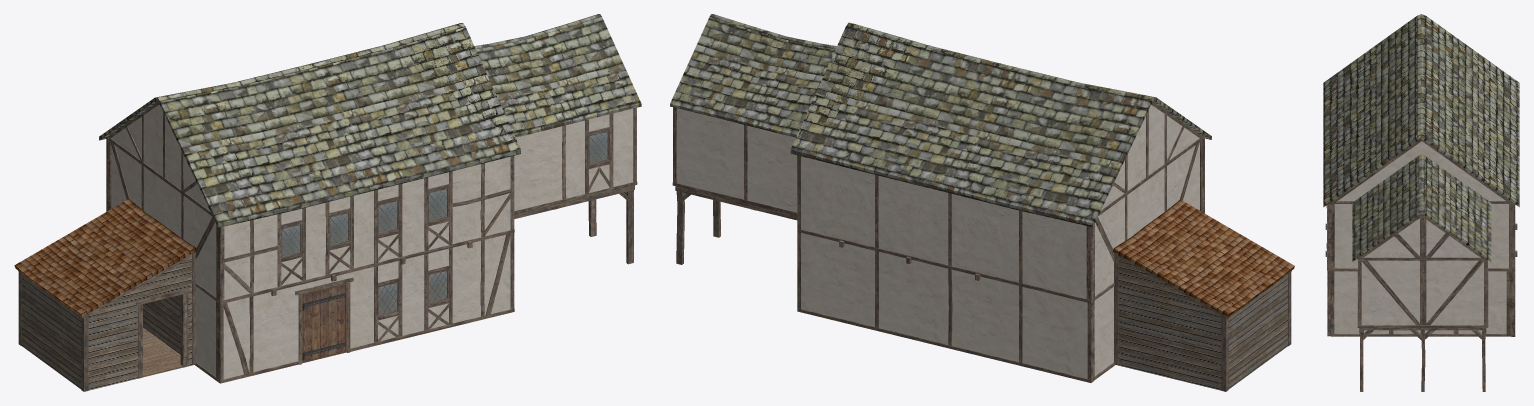
The model's file is House.fbx.
The picture shows the model from 3 angles, left to right: view 1: azimuth 30°, elevation 25°; view 2: azimuth 150°, elevation 25°; view 3: azimuth 270°, elevation 25°; orthographic projection. The views are drawn at different scales.
Parts seen in each view (by area): view 1: floor_3, Walls_001, Walls, Barn, Wooden_frame_001, Barn_roof, Wooden_frame, Door, Window_000, Window_002, Window_004, Window_001 (+4 smaller); view 2: floor_3, Walls_001, Walls, Barn, Barn_roof, Wooden_frame_001, Wooden_frame; view 3: floor_3, Walls_001, Wooden_frame_001, Walls, Wooden_frame.
Part boxes in pixels (bbox=[...]): floor_3: bbox=[99, 14, 641, 227]; Walls_001: bbox=[109, 108, 633, 299]; Walls: bbox=[196, 234, 510, 379]; Barn: bbox=[18, 252, 196, 391]; Wooden_frame_001: bbox=[106, 108, 637, 300]; Barn_roof: bbox=[14, 199, 196, 318]; Wooden_frame: bbox=[195, 229, 514, 383]; Door: bbox=[303, 285, 345, 361]; Window_000: bbox=[329, 212, 350, 246]; Window_002: bbox=[281, 224, 302, 258]; Window_004: bbox=[428, 269, 448, 304]; Window_001: bbox=[378, 200, 398, 234]; floor_3: bbox=[670, 14, 1211, 227]; Walls_001: bbox=[677, 108, 1202, 298]; Walls: bbox=[801, 233, 1113, 378]; Barn: bbox=[1114, 253, 1291, 391]; Barn_roof: bbox=[1113, 199, 1294, 318]; Wooden_frame_001: bbox=[672, 107, 1205, 300]; Wooden_frame: bbox=[797, 228, 1114, 382]; floor_3: bbox=[1323, 14, 1519, 261]; Walls_001: bbox=[1334, 204, 1508, 325]; Wooden_frame_001: bbox=[1325, 201, 1517, 391]; Walls: bbox=[1334, 271, 1506, 333]; Wooden_frame: bbox=[1327, 204, 1515, 336].
Bounding box in the file's own units: 2154 × 918 × 806.
